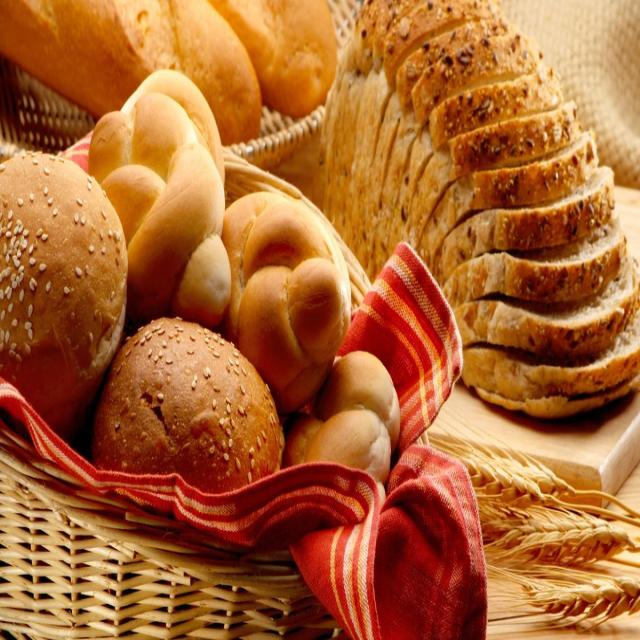Bread: (343, 3, 640, 418)
Bun: (84, 313, 288, 506), (0, 140, 124, 429)
